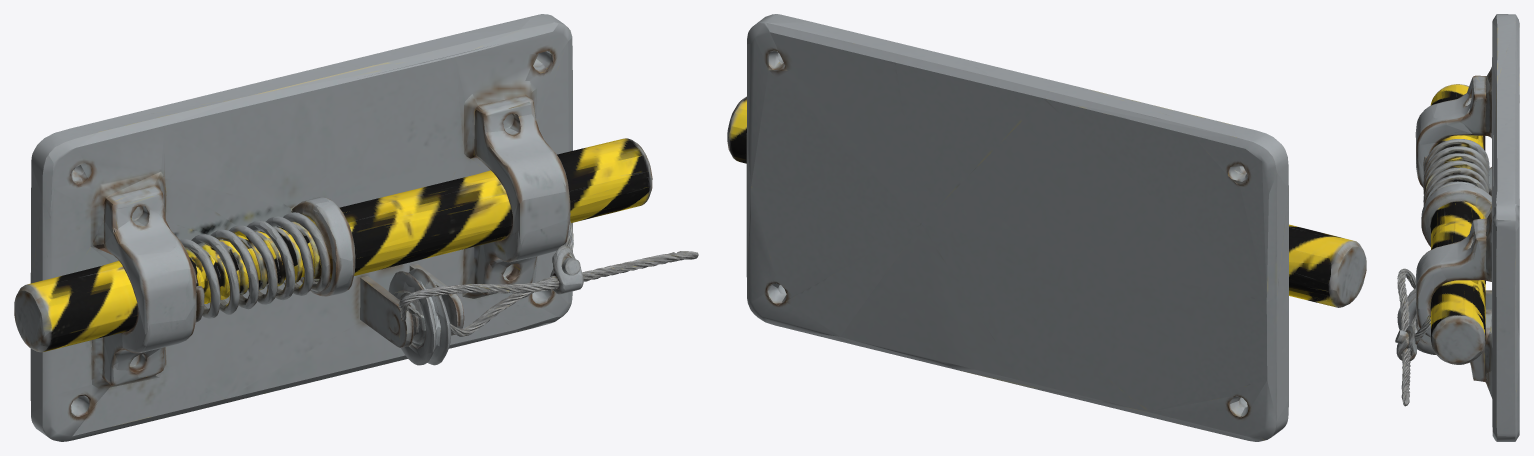
The model's file is chiavistello.glb.
3 renders of one model, left to right at view 1: azimuth 30°, elevation 25°; view 2: azimuth 150°, elevation 25°; view 3: azimuth 270°, elevation 25°, orthographic. The views are drawn at different scales.
Visible parts, largest first — view 1: Mesh_0; view 2: Mesh_0; view 3: Mesh_0.
Boxes of the visible parts, box(x1,y1,x2,y2) form: Mesh_0: box(14, 14, 698, 441); Mesh_0: box(727, 14, 1366, 441); Mesh_0: box(1395, 14, 1519, 441).
Bounding box in the file's own units: 1.9 × 0.8591 × 0.4063.
1 material, 1 textured.
